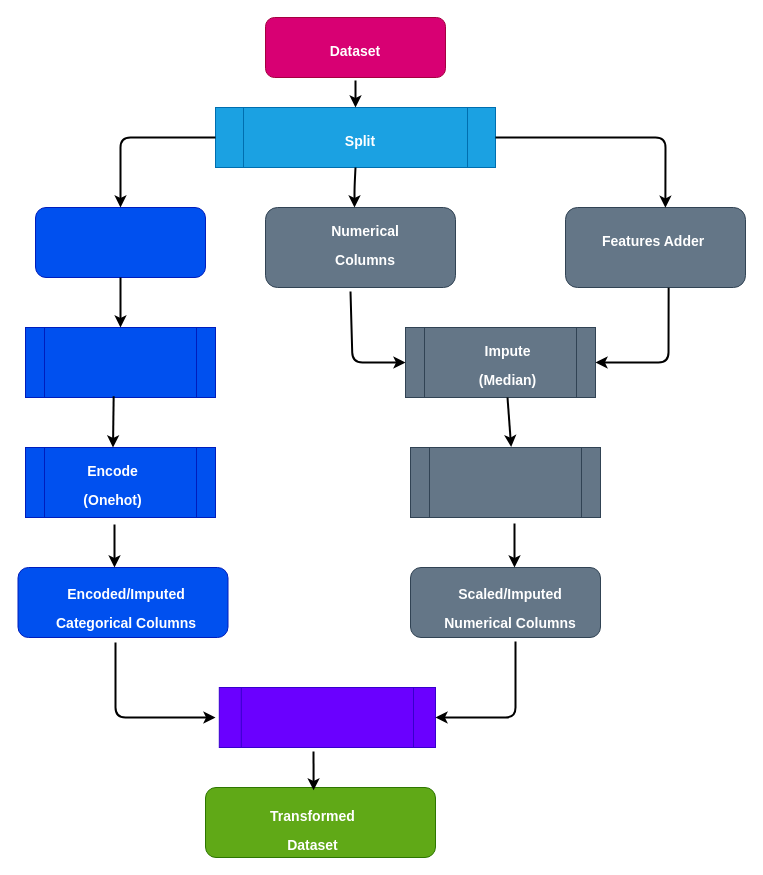
This 763x875 diagram has some shape labels left out. The shapes that lost their labels are listed below. From the top down, each one's centre as x and y in pixels, then its label:
At point (120, 242): "Categorical Columns".
At point (120, 362): "Impute (Mode)".
At point (505, 482): "Scale (Standard)".
At point (327, 717): "Combine".
